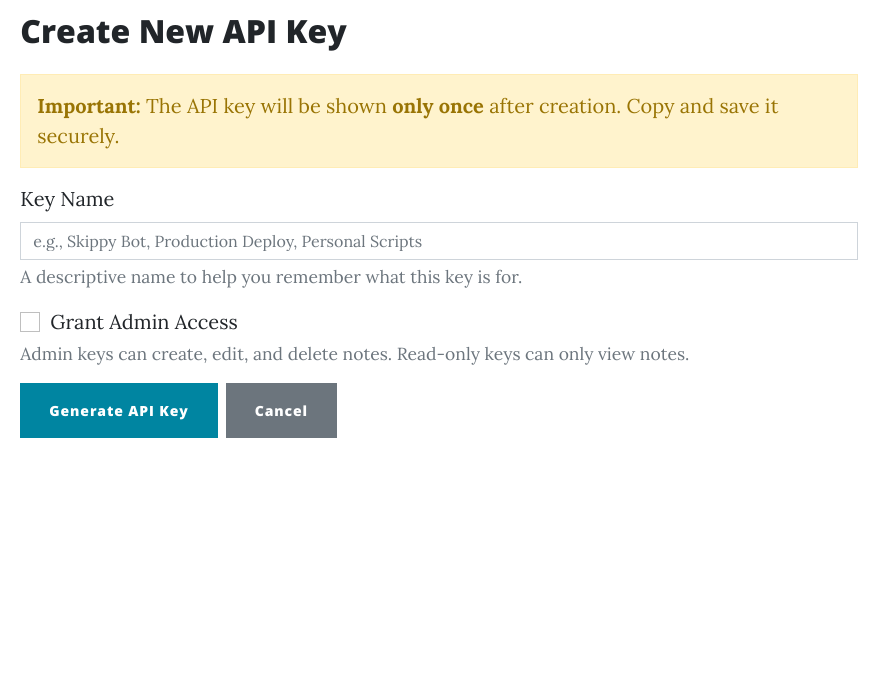
create cannot issue two secrets when submit is clicked twice during one request
Type "One" into the field labelled "Key Name" at (439, 241), box [20, 222, 858, 260]
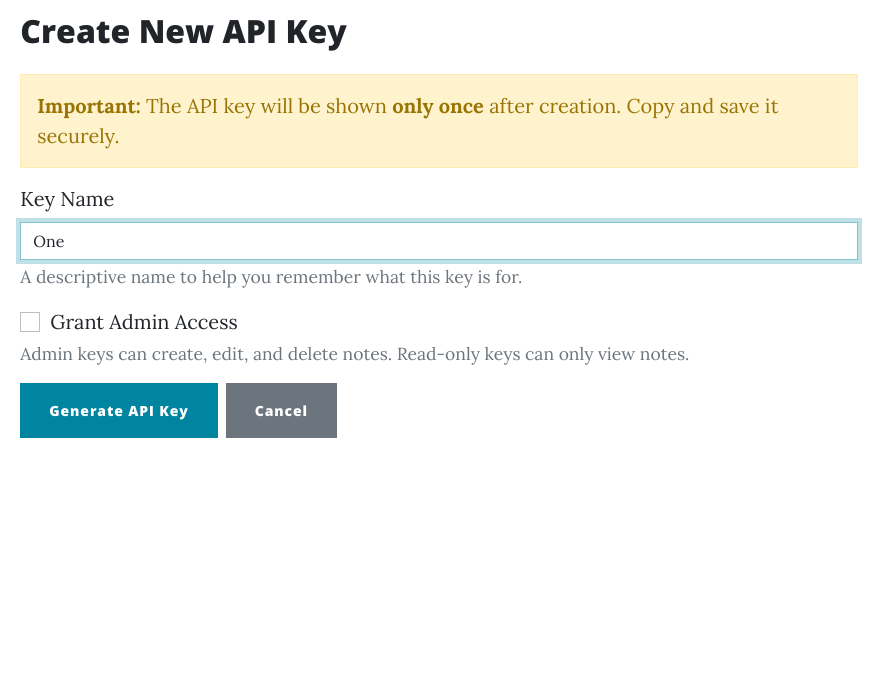
Click the button "Generate API Key" at (119, 410), box [20, 383, 218, 438]
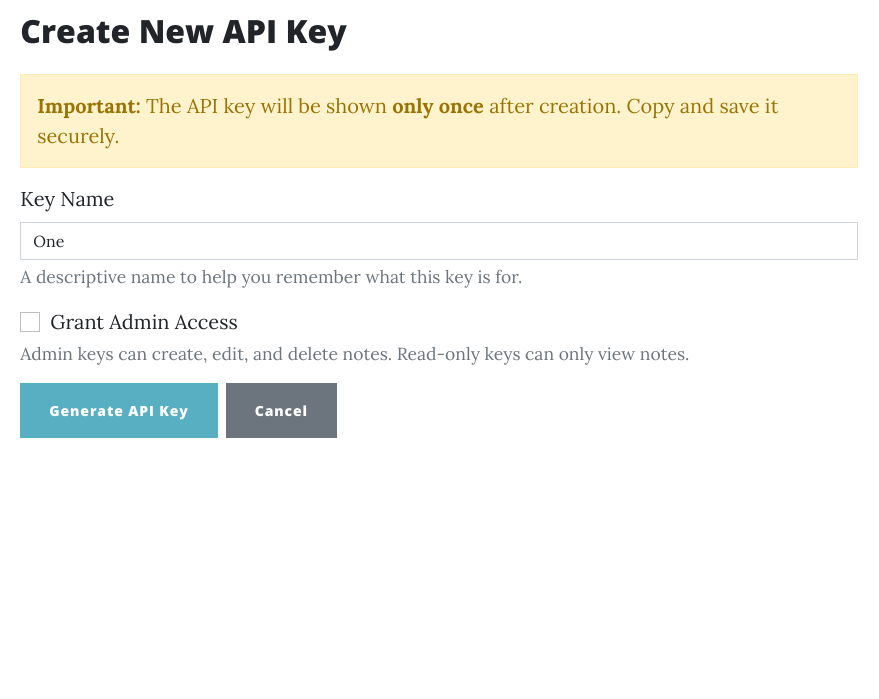
Click the button "Generate API Key" at (119, 410), box [20, 383, 218, 438]
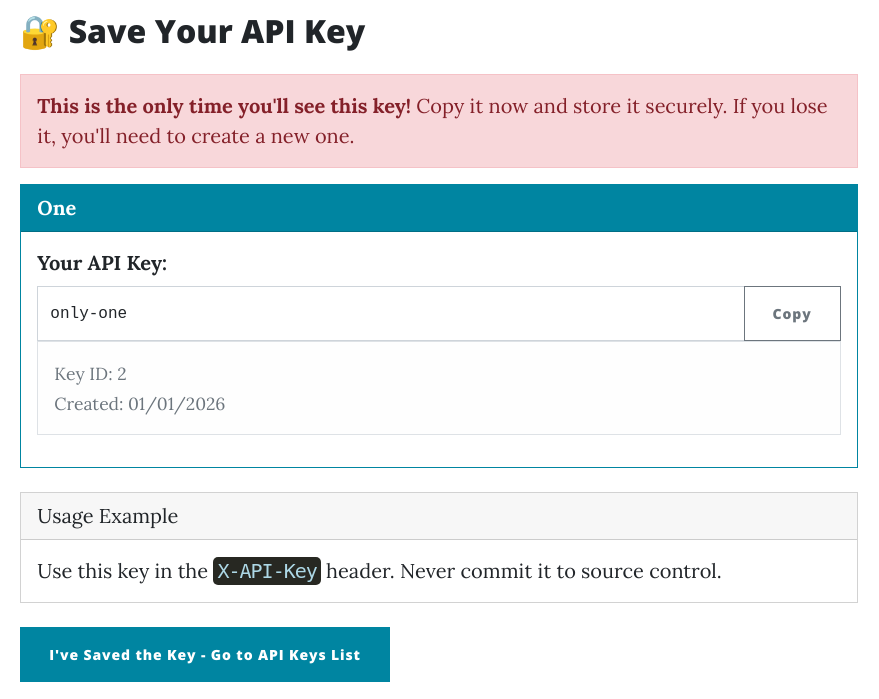
Expected: the field showing "only-one" is shown, [37, 286, 745, 341]
